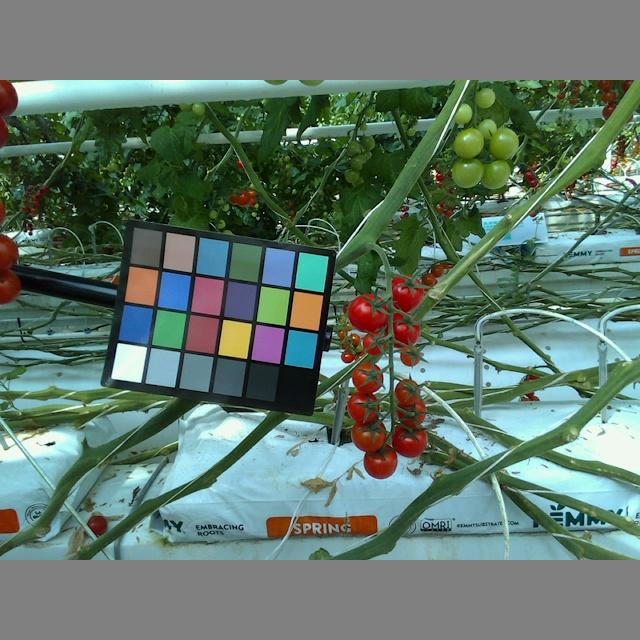green: (479, 155, 511, 192), (488, 121, 518, 158), (453, 124, 484, 157), (450, 156, 481, 187), (476, 84, 496, 109)
red: (390, 419, 430, 457), (349, 295, 390, 330), (351, 416, 387, 454), (385, 278, 425, 312), (363, 441, 398, 478), (347, 390, 381, 425), (379, 312, 418, 342), (349, 361, 385, 390), (397, 397, 429, 429), (1, 233, 21, 273), (393, 374, 422, 401), (1, 269, 22, 306), (1, 82, 18, 117), (363, 335, 390, 357), (399, 341, 421, 367)
